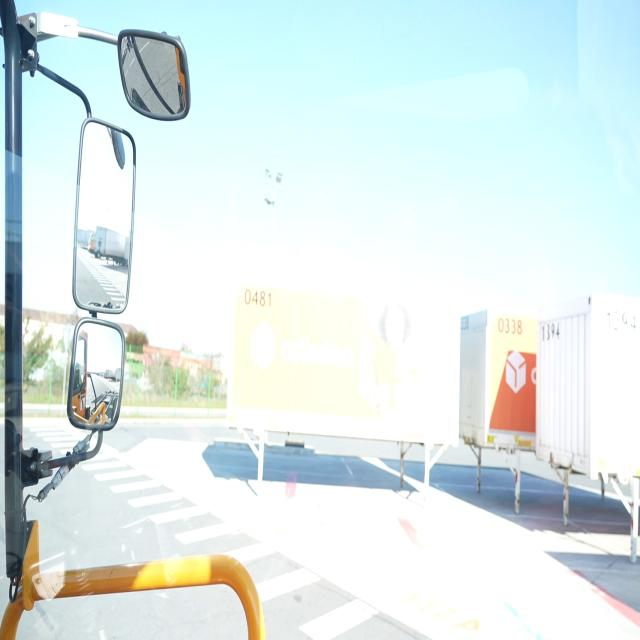Code: (495, 314, 529, 341), (240, 285, 274, 310), (534, 318, 562, 346)
